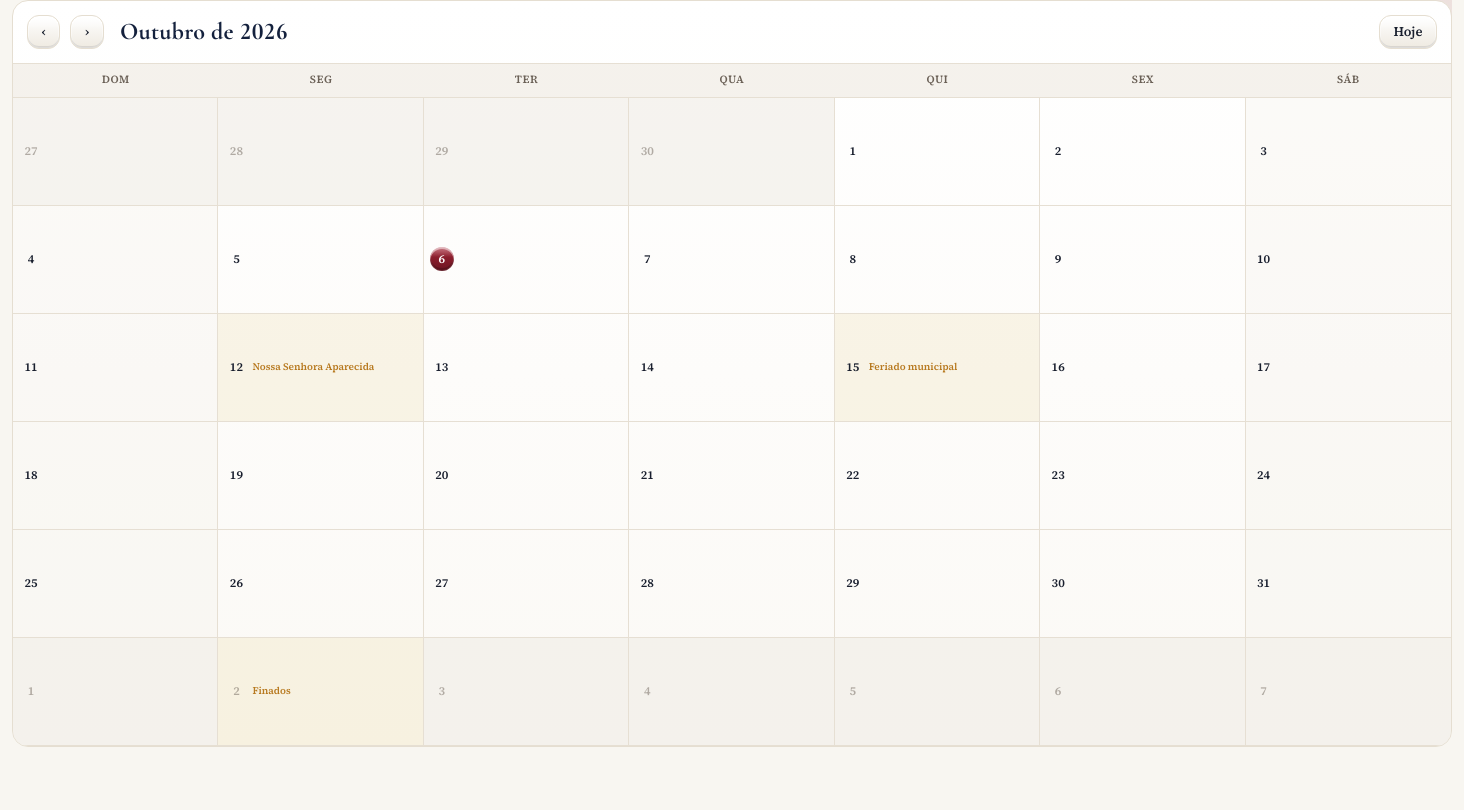
CalendarioMes › navega entre meses e volta para o mês de hoje
Expected: the heading "Outubro de 2026" is shown, 120,16 -> 288,48
Click the button named "Próximo mês".
click(87, 32)  # box 70,15 -> 104,49
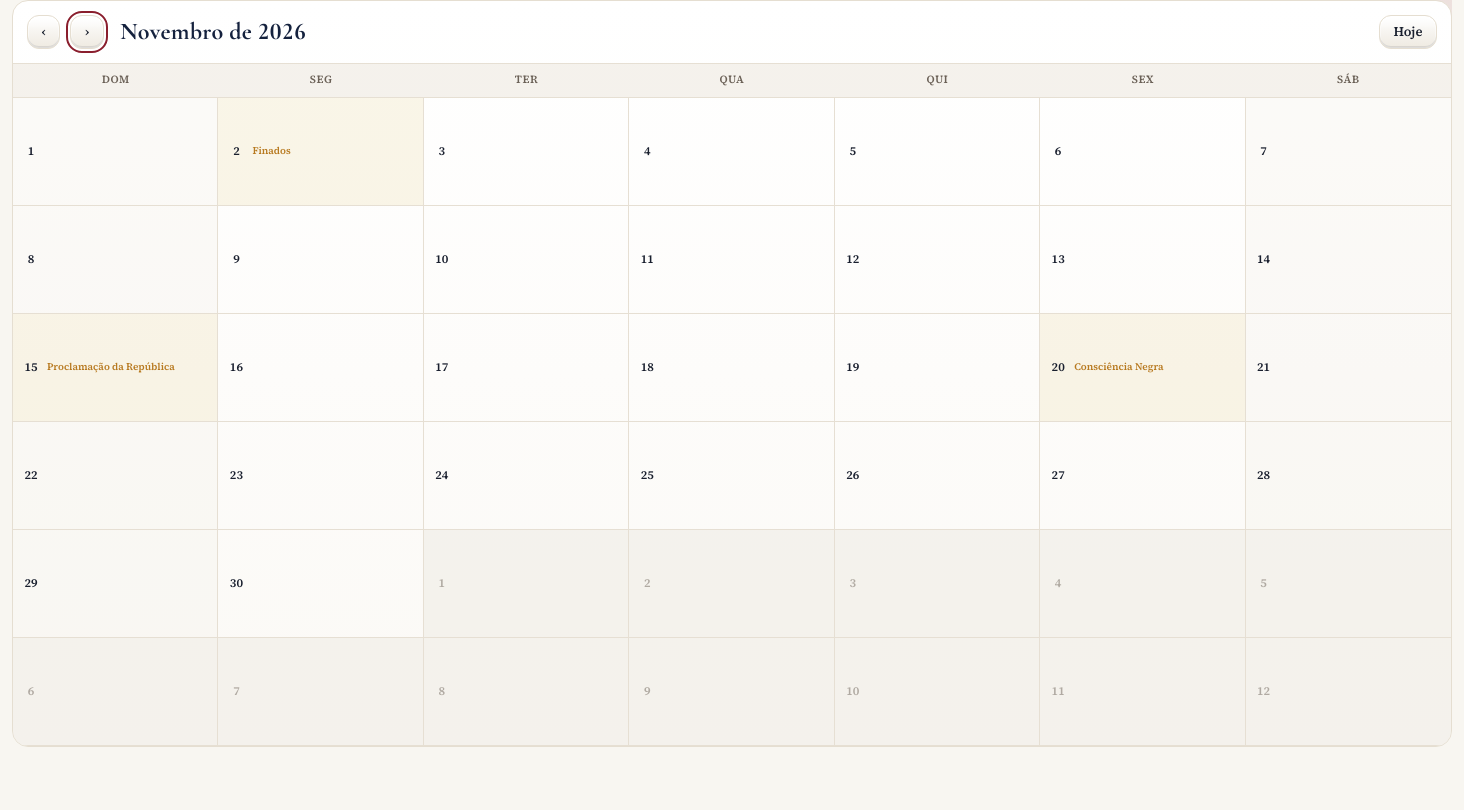
Click the button named "Próximo mês".
click(87, 32)  # box 70,15 -> 104,49
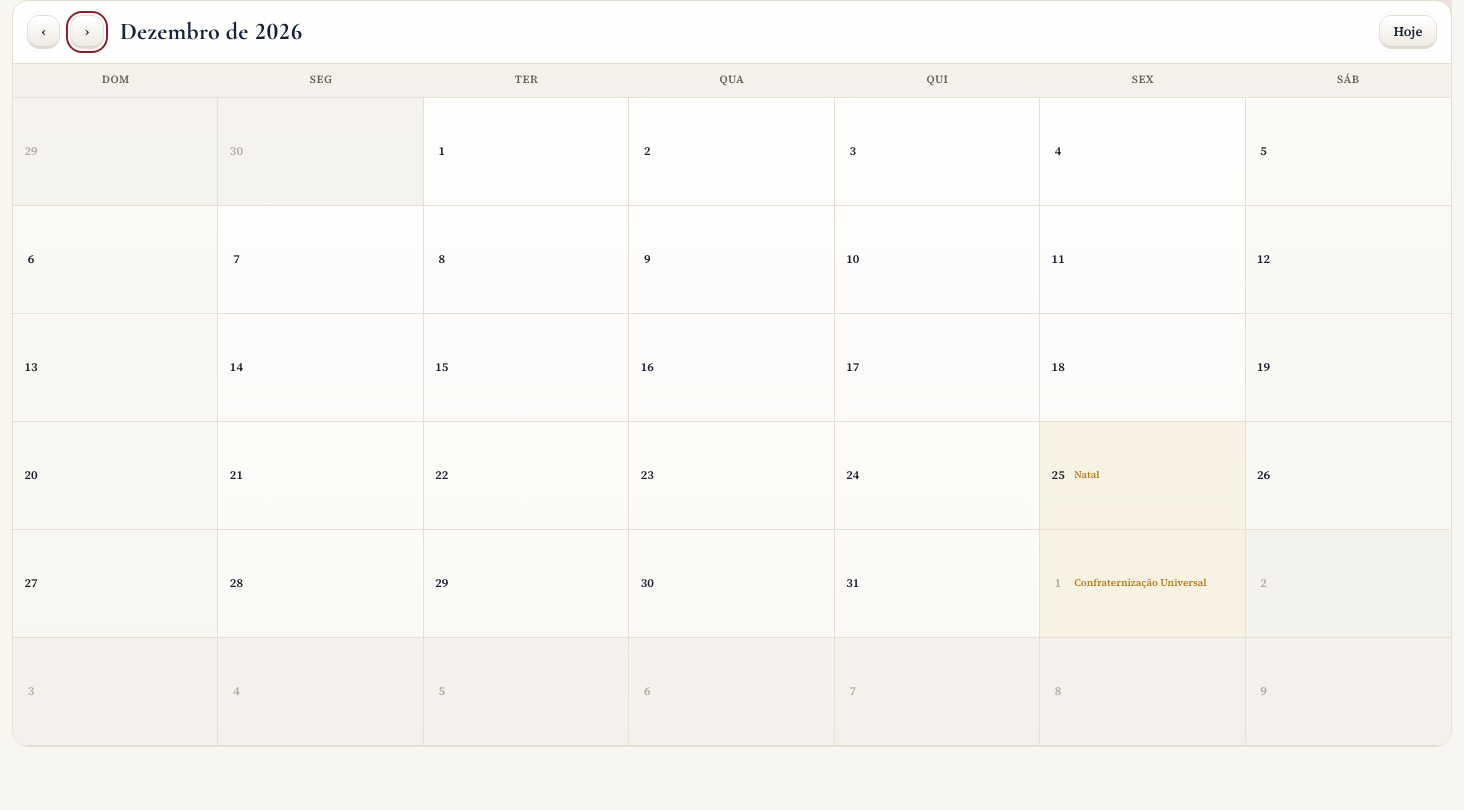
Click the button named "Próximo mês".
click(87, 32)  # box 70,15 -> 104,49
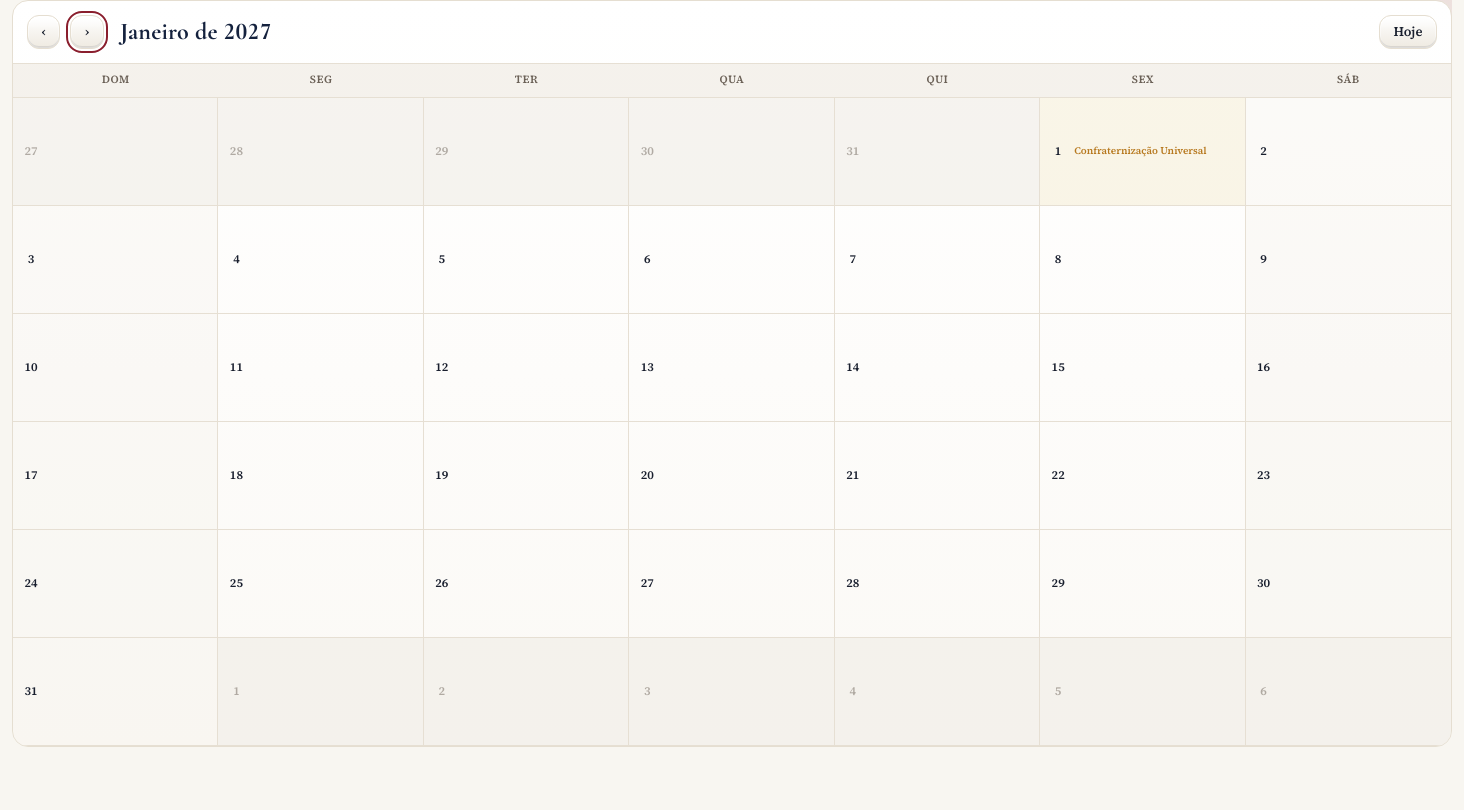
Result: the heading "Janeiro de 2027" is shown at 120,16 -> 272,48
Click the button "Hoje".
click(1408, 32)  # box 1379,15 -> 1437,49
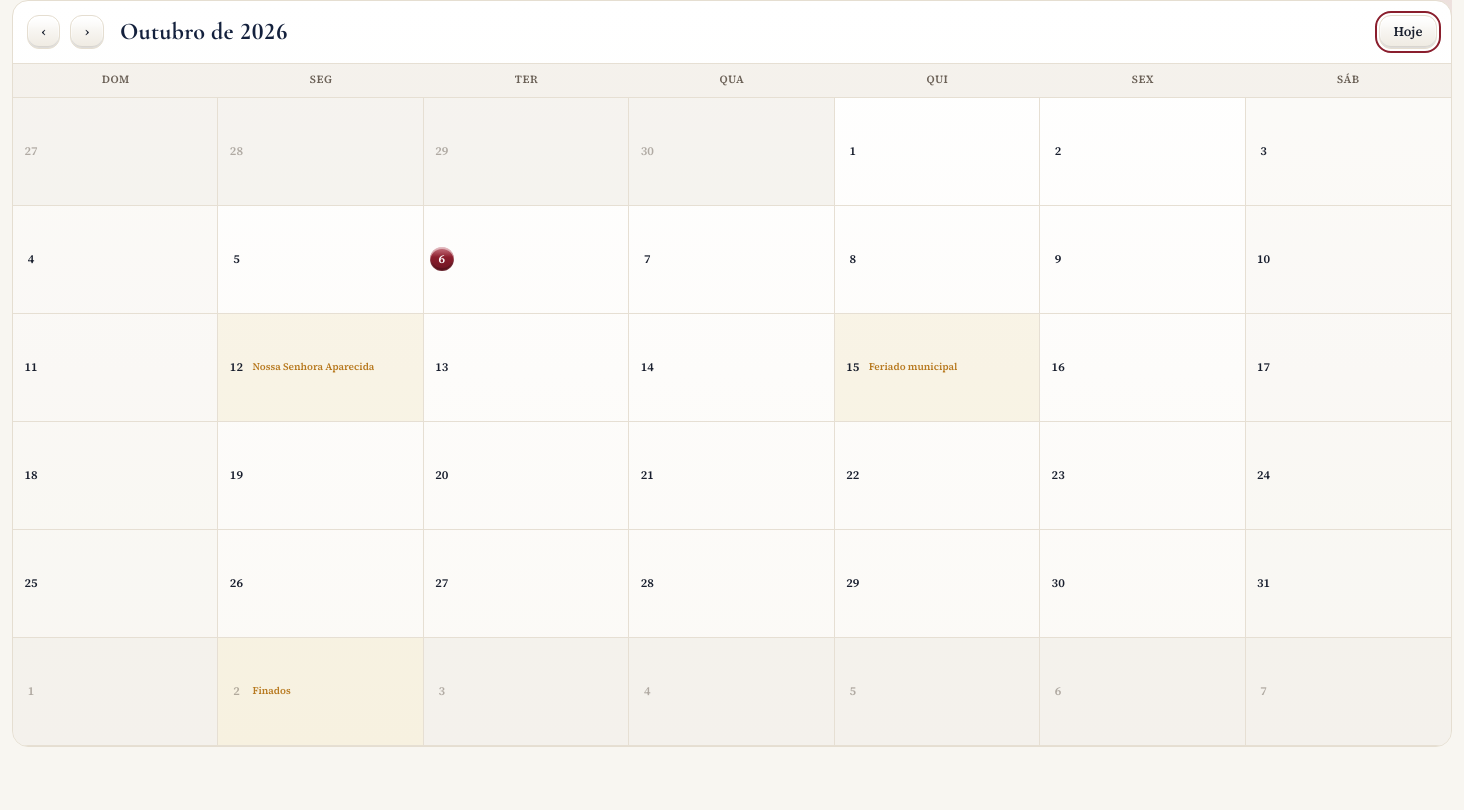
Click the button named "Mês anterior".
click(44, 32)  # box 27,15 -> 60,49
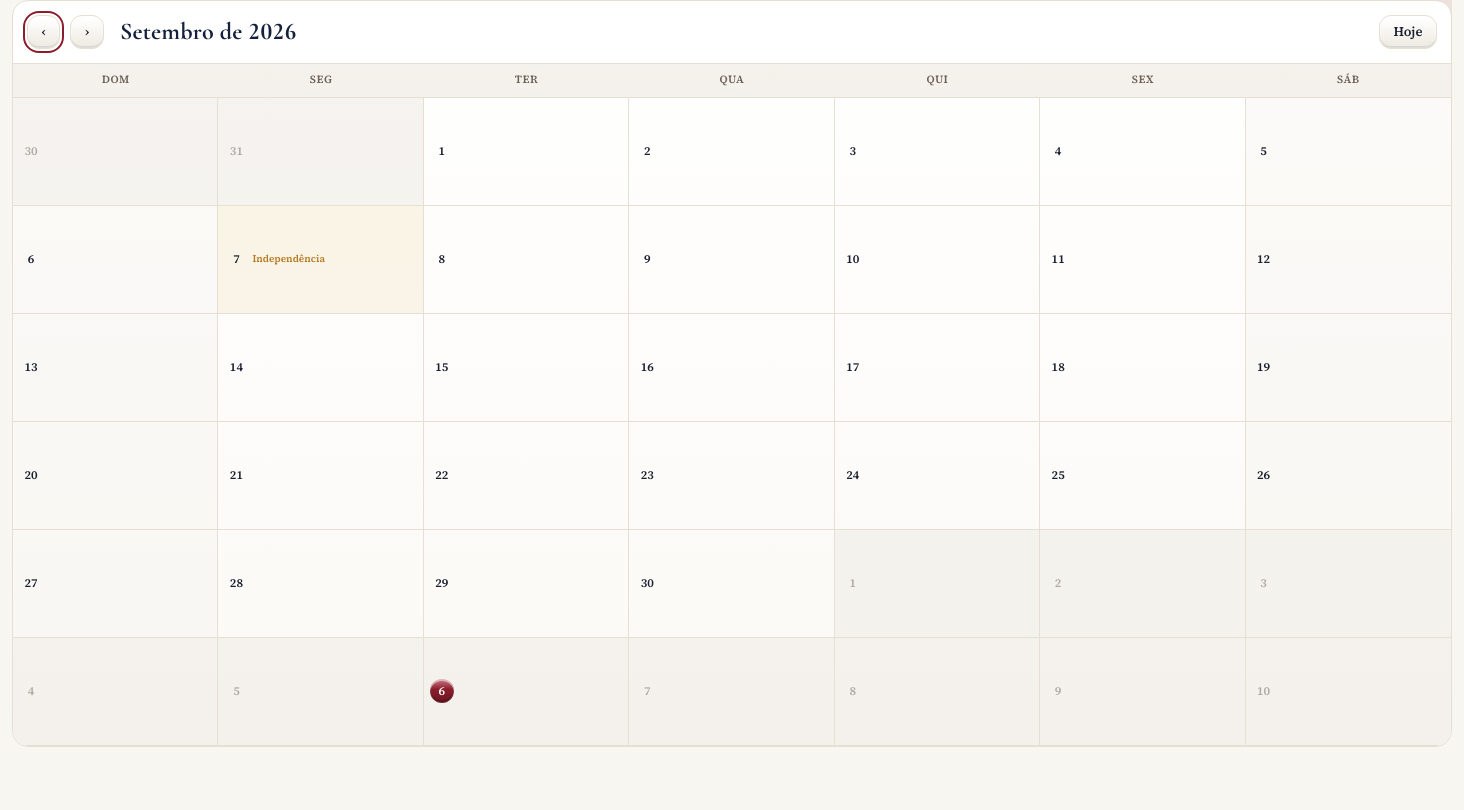
Result: the heading "Setembro de 2026" is shown at 120,16 -> 296,48
